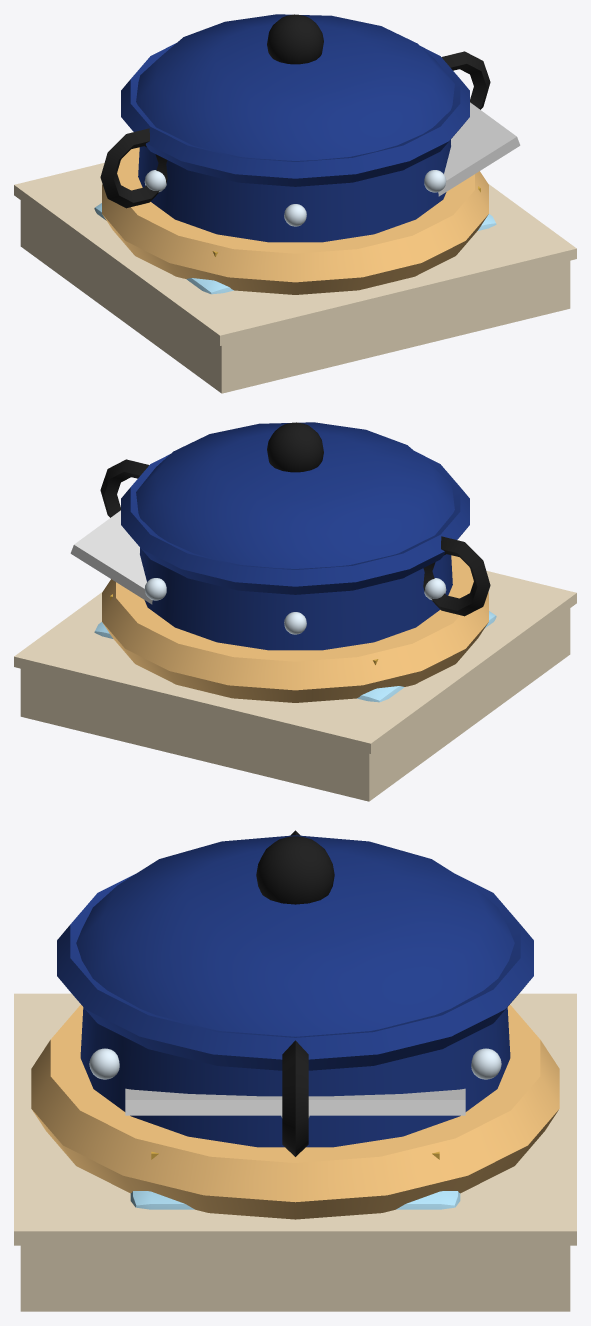
Rendered from hustle_food.glb.
3 renders of one model, top to bottom at view 1: azimuth 30°, elevation 25°; view 2: azimuth 150°, elevation 25°; view 3: azimuth 270°, elevation 25°, orthographic. The views are drawn at different scales.
Visible parts, largest first — view 1: Food_cholent, Food_pizza, Food_kugel; view 2: Food_cholent, Food_pizza, Food_kugel; view 3: Food_cholent, Food_pizza, Food_kugel.
Part boxes in pixels (bbox=[...]): Food_cholent: bbox=[100, 14, 490, 294]; Food_pizza: bbox=[14, 163, 576, 393]; Food_kugel: bbox=[94, 102, 520, 294]; Food_cholent: bbox=[100, 422, 490, 702]; Food_pizza: bbox=[14, 571, 576, 801]; Food_kugel: bbox=[70, 510, 496, 702]; Food_cholent: bbox=[31, 830, 559, 1219]; Food_pizza: bbox=[14, 993, 576, 1311]; Food_kugel: bbox=[125, 1088, 465, 1209].
Bounding box in the file's own units: 0.47 × 0.3 × 0.43.
